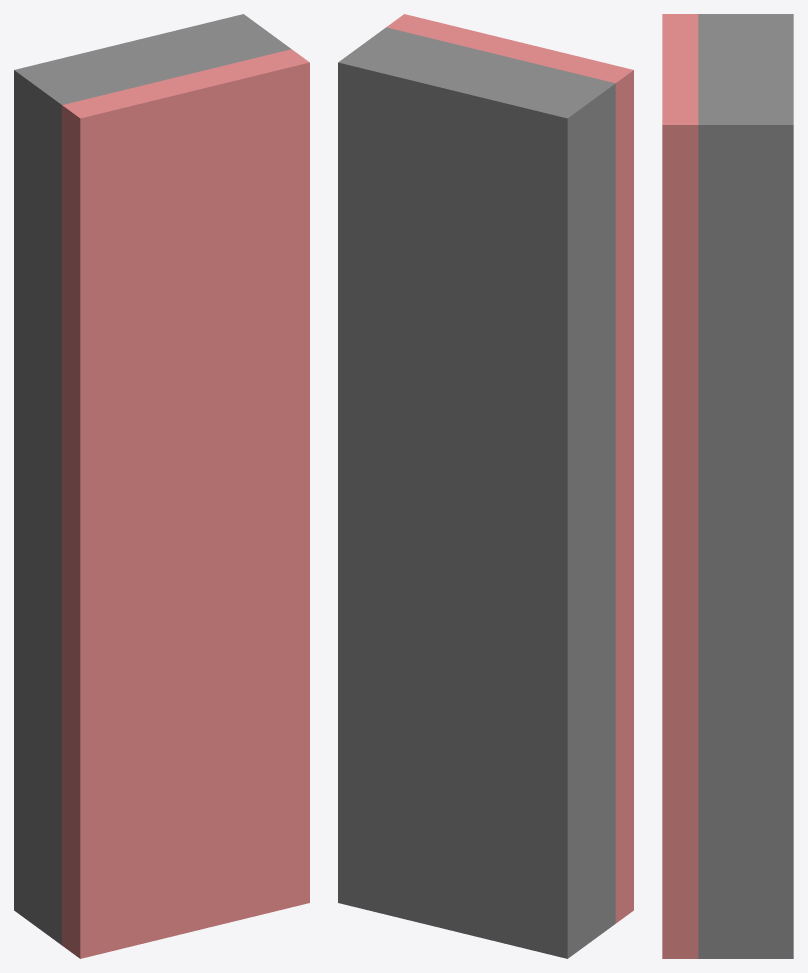
File: S_Envi_Common_ReWall_01e.gltf
3 views of the same model, side by side, from view 1: azimuth 30°, elevation 25°; view 2: azimuth 150°, elevation 25°; view 3: azimuth 270°, elevation 25° (orthographic).
Parts seen in each view (by area): view 1: S_Envi_Common_ReWall_01e; view 2: S_Envi_Common_ReWall_01e; view 3: S_Envi_Common_ReWall_01e.
Part boxes in pixels (x1,y1,x2,y2): S_Envi_Common_ReWall_01e: (14, 14, 309, 958); S_Envi_Common_ReWall_01e: (338, 14, 633, 958); S_Envi_Common_ReWall_01e: (662, 14, 793, 958).
Size of the model in its own units: 1 by 3.5 by 0.5002.
